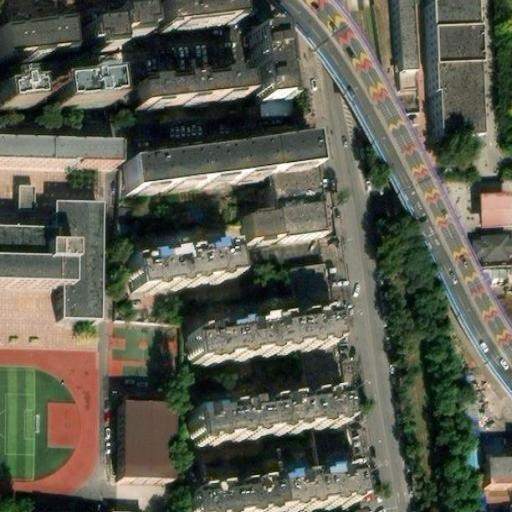building: (178, 461, 355, 512), (121, 131, 305, 178), (189, 314, 338, 368), (186, 384, 343, 434), (424, 0, 471, 140), (131, 244, 237, 296), (57, 207, 100, 326), (129, 66, 246, 103), (114, 414, 167, 488), (0, 141, 114, 172), (242, 212, 319, 250), (0, 20, 76, 58), (288, 264, 333, 319), (252, 42, 285, 116), (161, 0, 236, 31), (55, 78, 111, 111), (389, 0, 409, 83), (471, 229, 512, 266), (270, 168, 314, 202), (476, 188, 512, 227), (80, 17, 117, 47), (479, 459, 512, 492), (14, 182, 35, 210)
